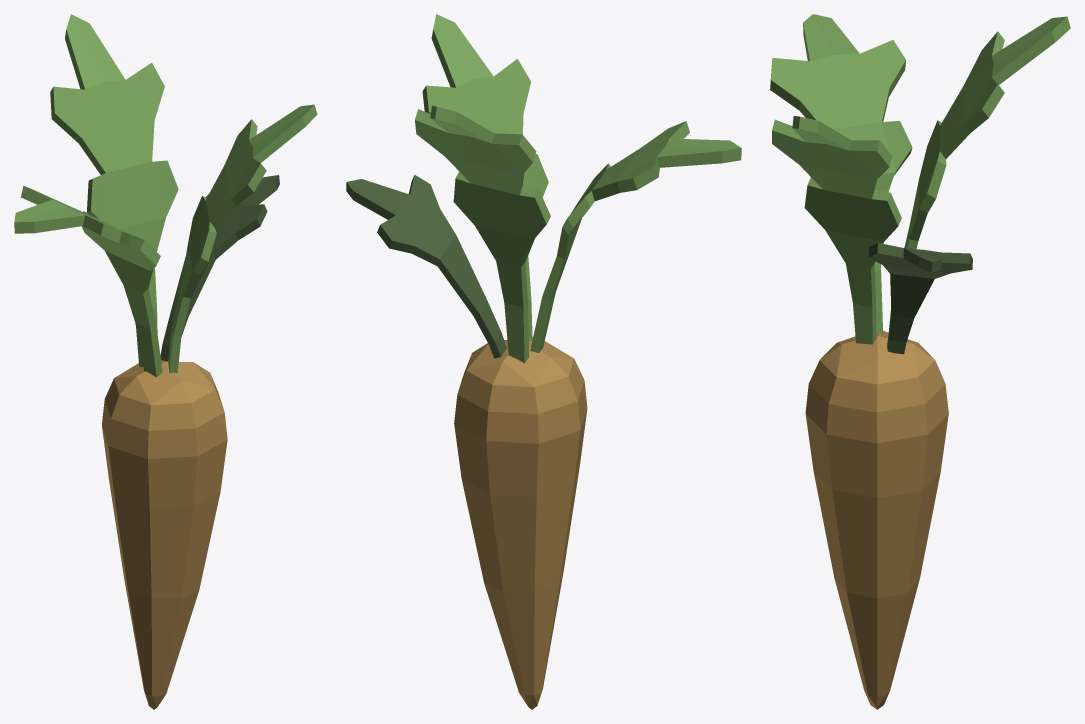
File: carrot_4.glb
3 views of the same model, side by side, from view 1: azimuth 30°, elevation 25°; view 2: azimuth 150°, elevation 25°; view 3: azimuth 270°, elevation 25° (orthographic). The views are drawn at different scales.
Parts seen in each view (by area): view 1: Green, LightOrange, DarkGreen2; view 2: LightOrange, Green, DarkGreen2; view 3: LightOrange, Green, DarkGreen2.
Boxes of the visible parts, x1=… form: Green: x1=14, y1=14, x2=317, y2=377; LightOrange: x1=102, y1=360, x2=227, y2=709; DarkGreen2: x1=160, y1=175, x2=279, y2=361; LightOrange: x1=454, y1=337, x2=587, y2=709; Green: x1=415, y1=14, x2=741, y2=363; DarkGreen2: x1=346, y1=174, x2=506, y2=358; LightOrange: x1=805, y1=330, x2=948, y2=709; Green: x1=770, y1=14, x2=1070, y2=344; DarkGreen2: x1=869, y1=243, x2=972, y2=354.
Bounding box in the file's own units: 0.6765 × 1.28 × 0.5016.
